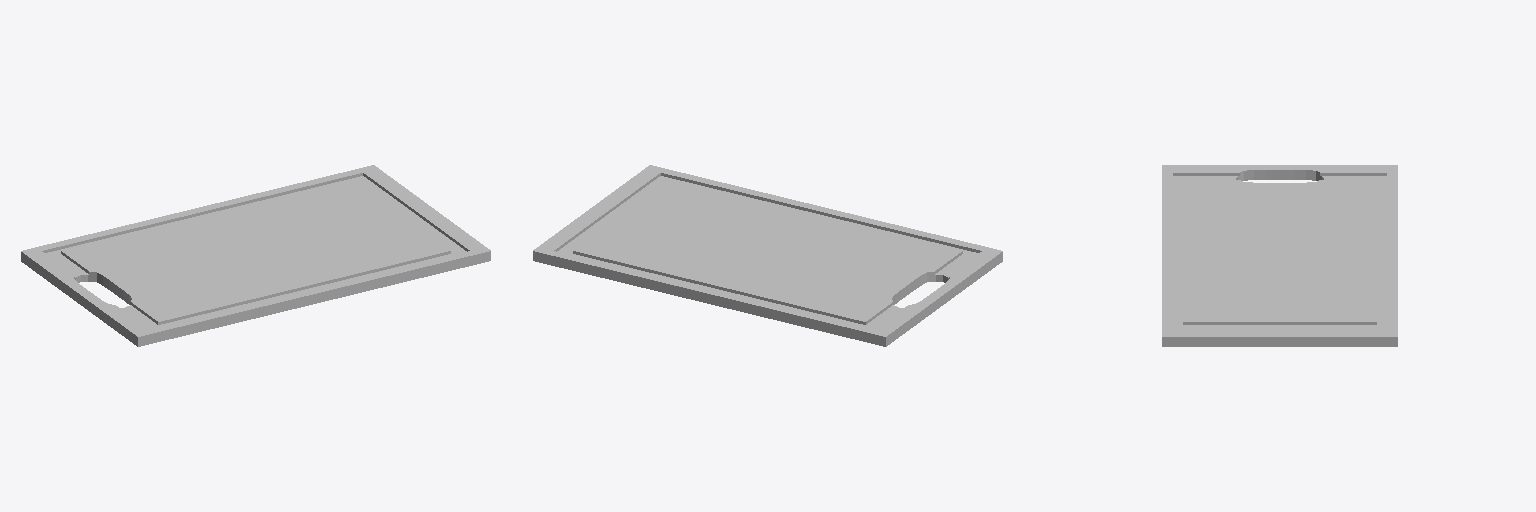
The model's file is cuttingboard.obj.
3 views of the same model, side by side, from view 1: azimuth 30°, elevation 25°; view 2: azimuth 150°, elevation 25°; view 3: azimuth 270°, elevation 25° (orthographic).
Visible parts, largest first — view 1: CuttingBoard_geo1; view 2: CuttingBoard_geo1; view 3: CuttingBoard_geo1.
Boxes of the visible parts, x1=… form: CuttingBoard_geo1: x1=21, y1=165, x2=490, y2=346; CuttingBoard_geo1: x1=533, y1=165, x2=1002, y2=346; CuttingBoard_geo1: x1=1162, y1=165, x2=1397, y2=346.
Bounding box in the file's own units: 36.76 × 1 × 21.18.